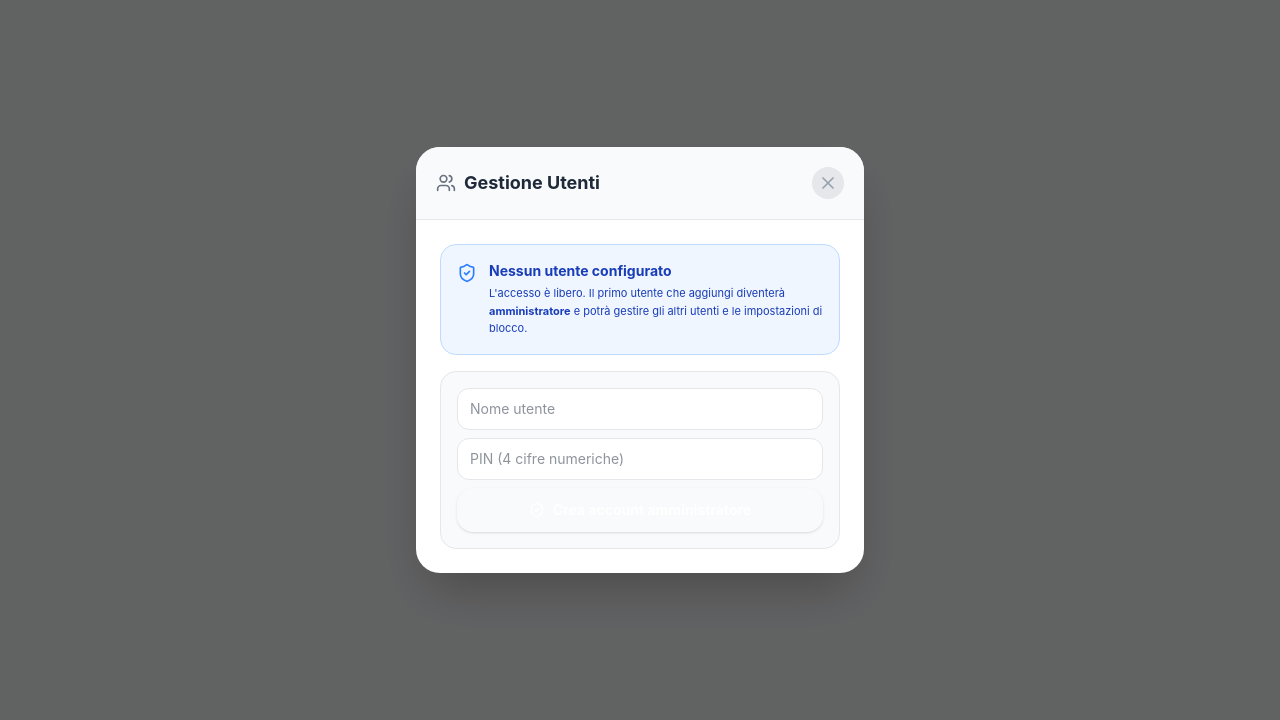
adding the first user › creates the user and switches from the empty-state view
Type "Admin" into the field with placeholder "Nome utente". click: (640, 409)
box: [457,388,823,430]
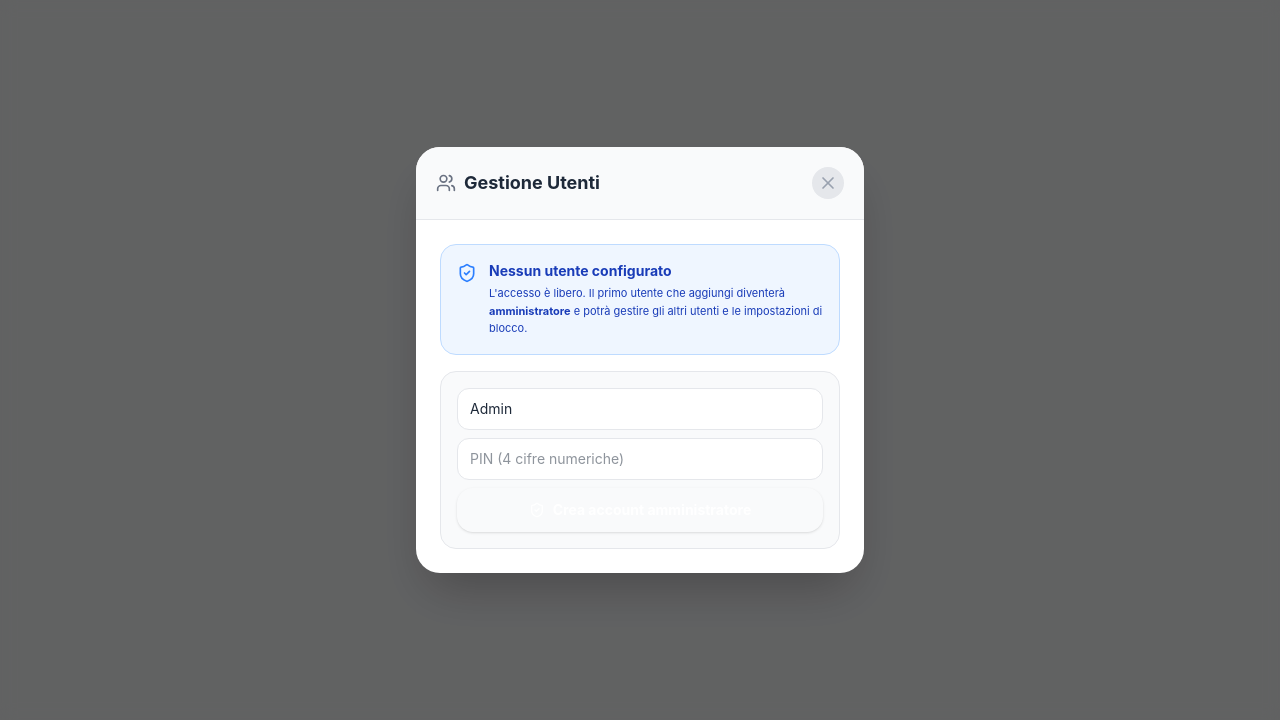
Type "1234" into the password field with placeholder "PIN (4 cifre numeriche)". click: (640, 459)
box: [457,438,823,480]
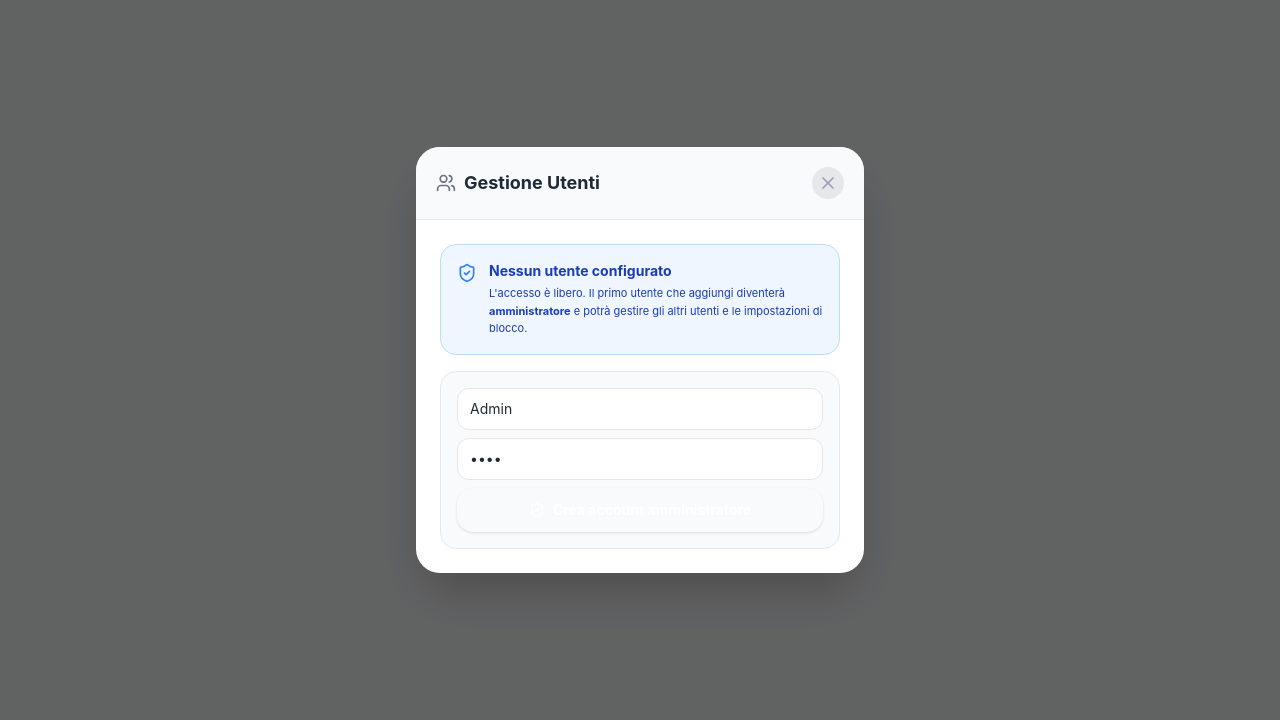
Click the button "Crea account amministratore". click: (640, 510)
box: [457,488,823,532]
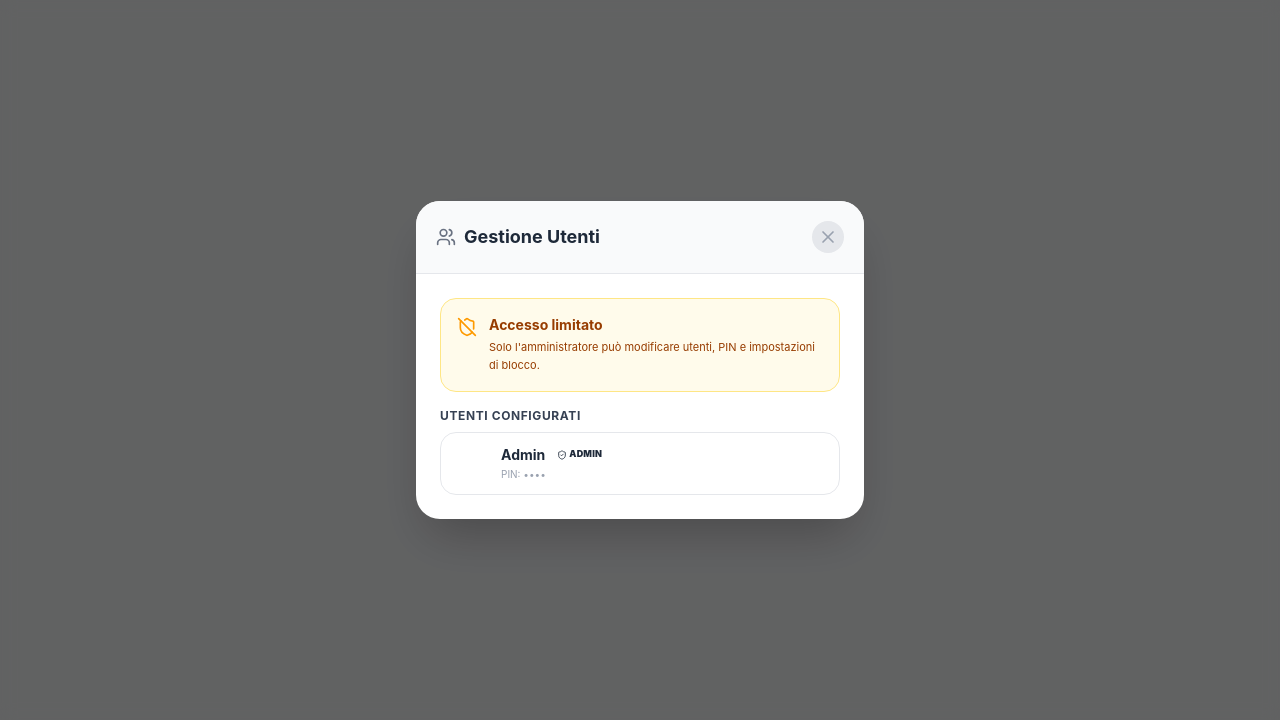
Now the text "Nessun utente configurato" is gone
Now the text "Admin" is shown, box [557,448,602,460]
